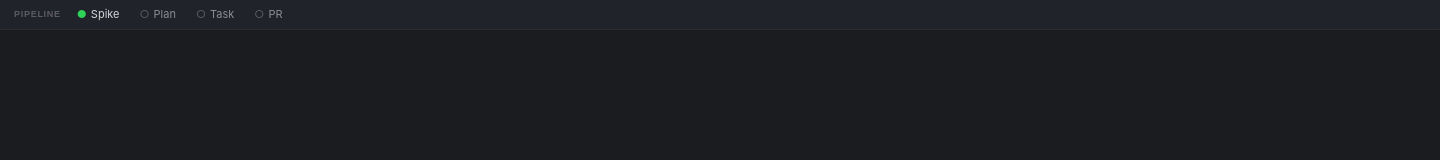
Test: PipelineStrip one-click dispatch › clicking a phase opens the context input with the phase placeholder
Click the button "○ Plan" at (158, 14), box [136,4,180,24]
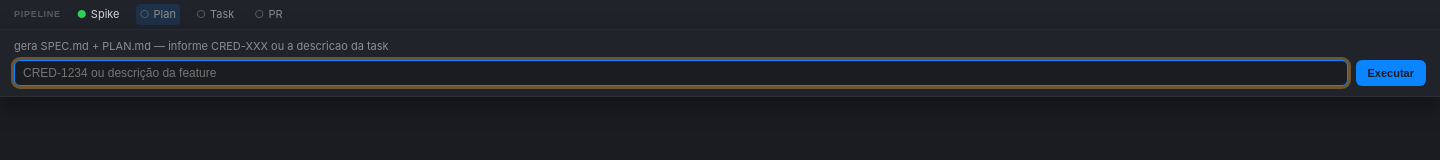
expect the field with placeholder "CRED-1234 ou descrição da feature" is shown: met, box [14,60,1348,86]
